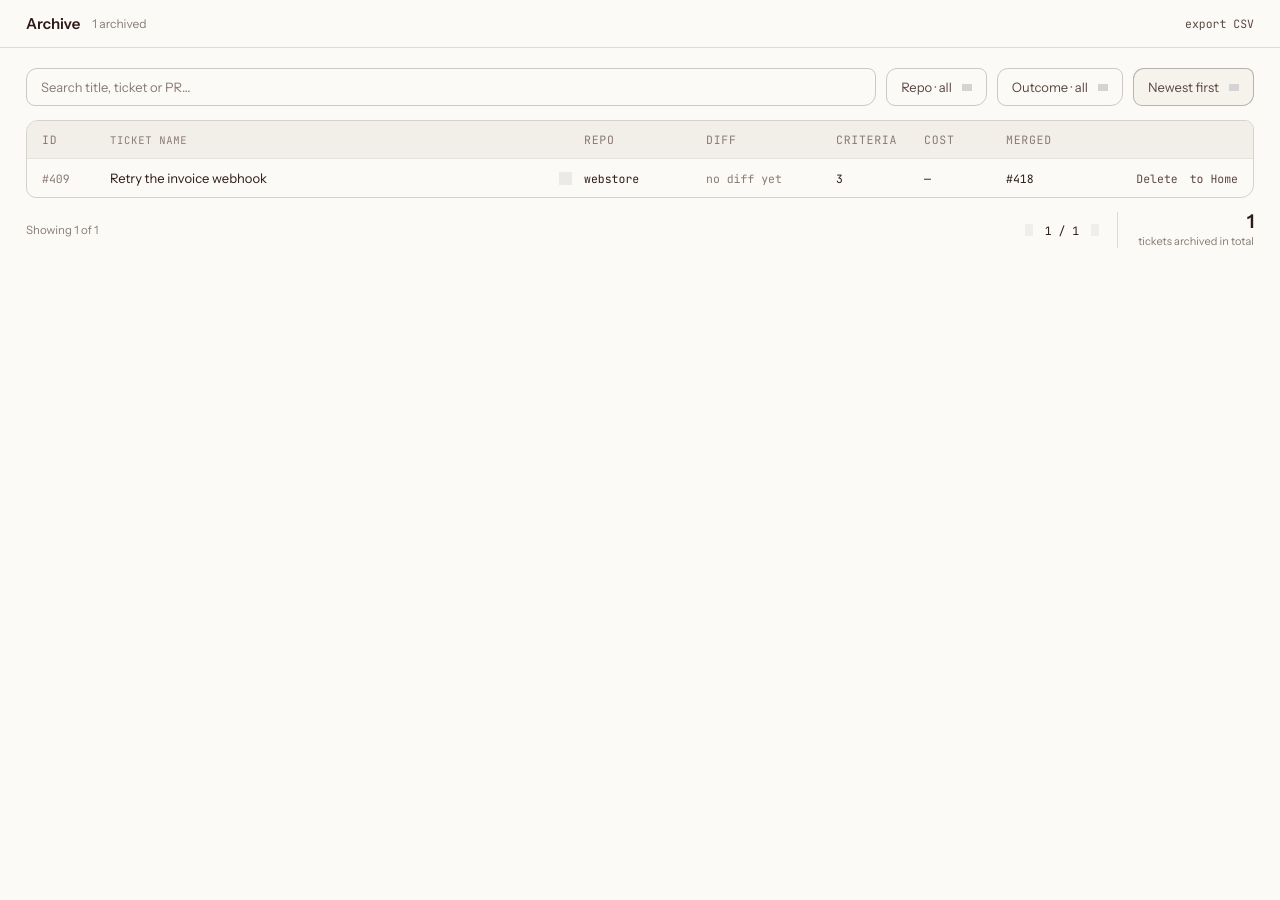
Scenario: deleting from the Archive › puts the row back and says why where the host refuses
What coordinates should you click on to do the following:
click the button with aria-label "Delete ticket: Retry the invoice webhook"
I would click on:
 (1157, 178)
Its box is left=1136, top=170, right=1178, bottom=186.
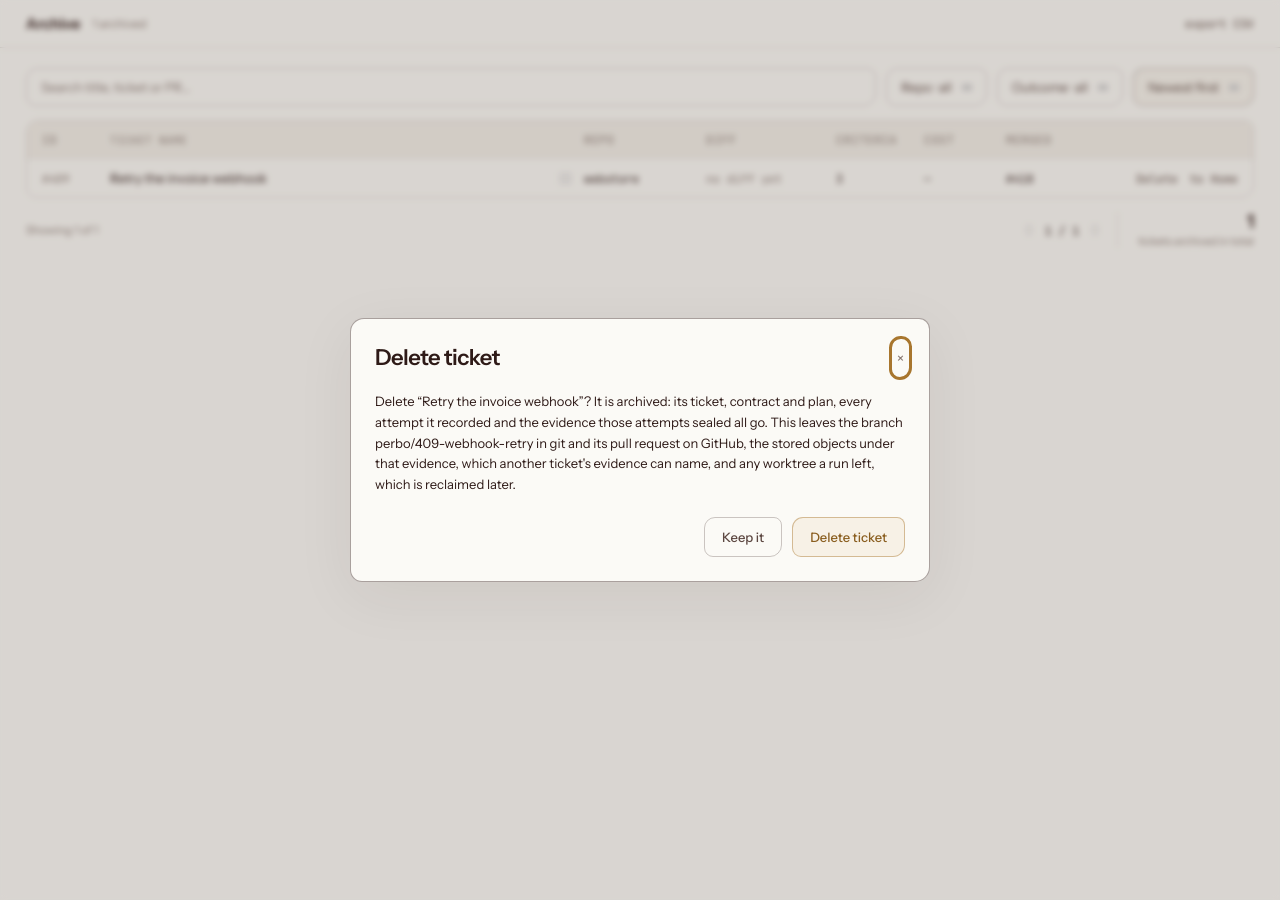
What coordinates should you click on to do the following:
click the button "Delete ticket"
I would click on:
 (849, 537)
Its box is left=792, top=517, right=905, bottom=557.
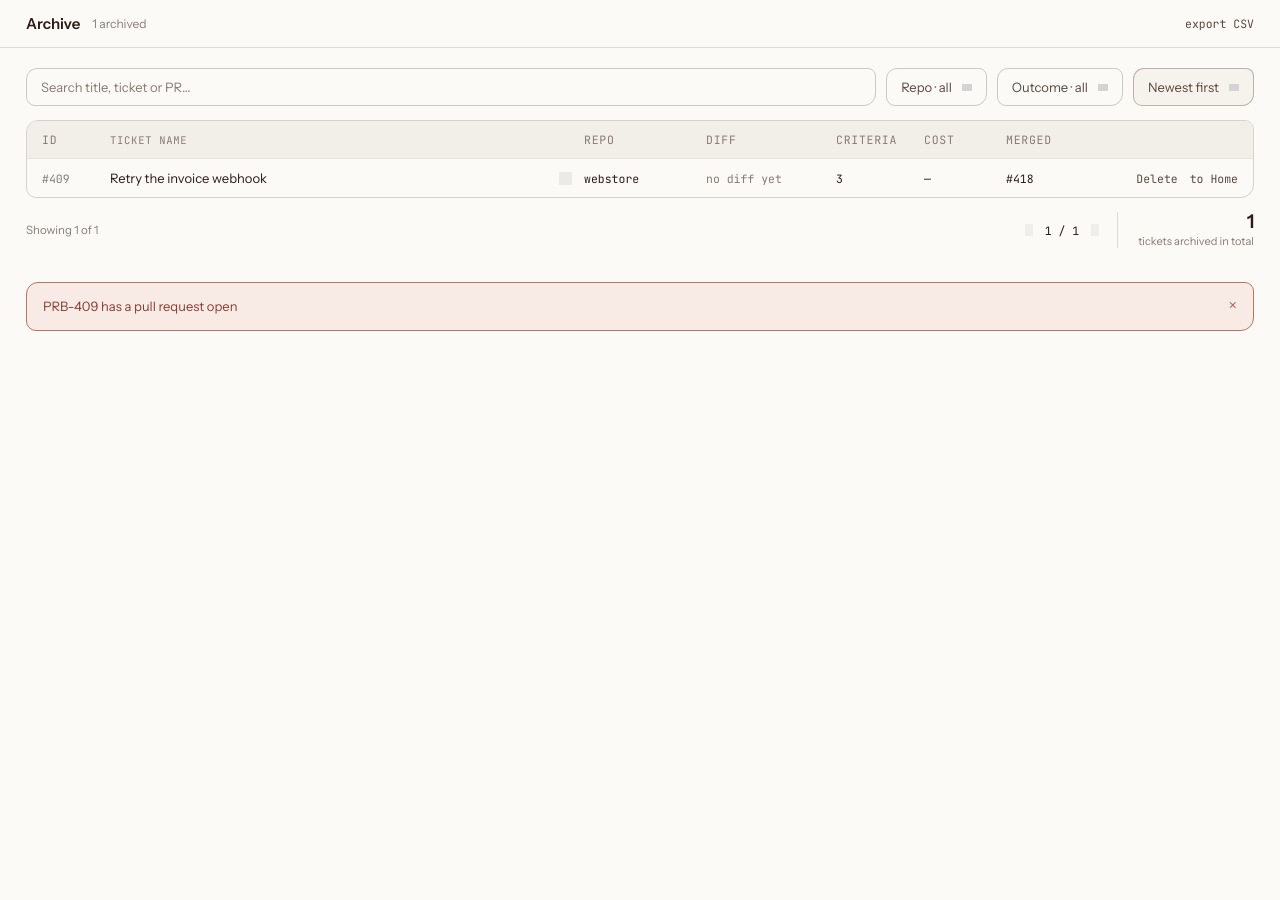
expect the text "PRB-409 has a pull request open" is shown: met, box left=43, top=298, right=238, bottom=314
